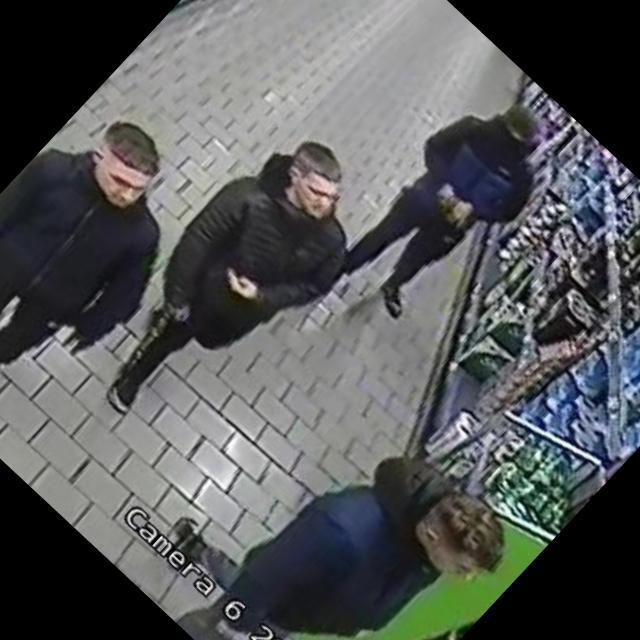person: (59, 113, 403, 466), (121, 352, 527, 640), (0, 87, 230, 443), (314, 72, 577, 342)
